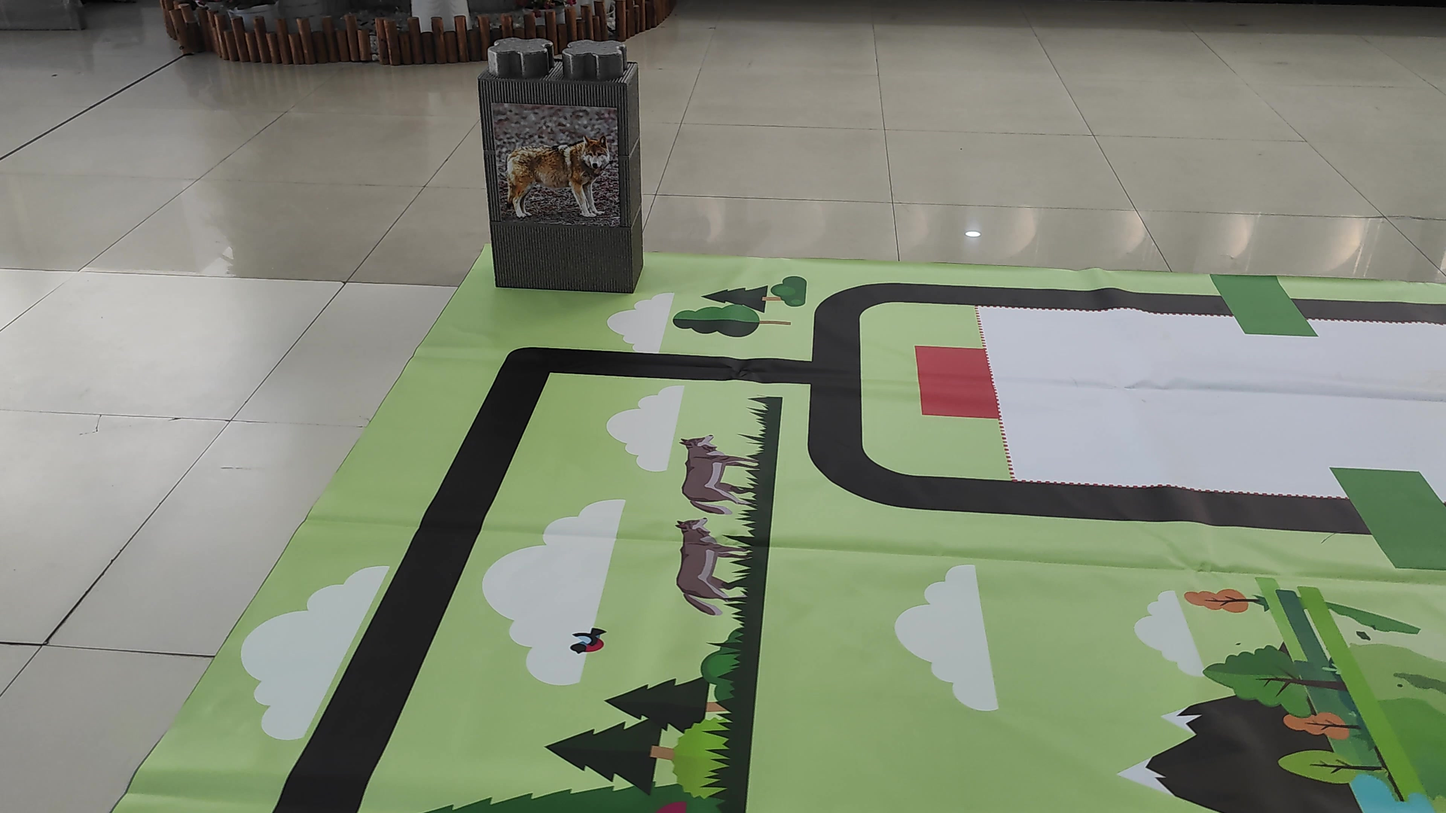wolf: (488, 127, 623, 224)
